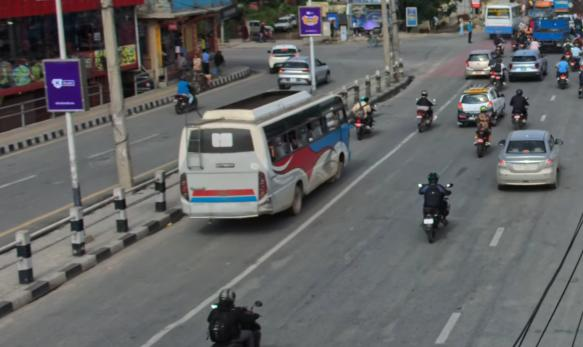bus: (179, 83, 349, 222), (482, 2, 523, 39)
car: (494, 127, 566, 194), (278, 54, 332, 88), (504, 49, 550, 78)
taxi: (455, 83, 507, 128)
